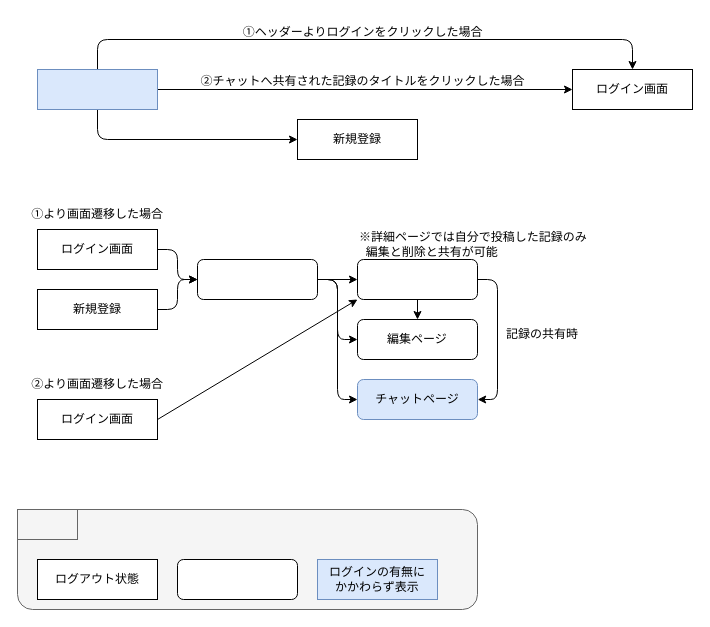
The diagram is 710 pixels wide and 627 high, and some of its shapes have lost their labels. The shapes that lost their labels are listed below. From the top down, each one's centre as x and y in pixels, then its label:
At point (97, 89): "チャット一覧".
At point (257, 279): "記録一覧".
At point (417, 279): "詳細ページ".
At point (47, 524): "凡例".
At point (237, 579): "ログイン状態".
